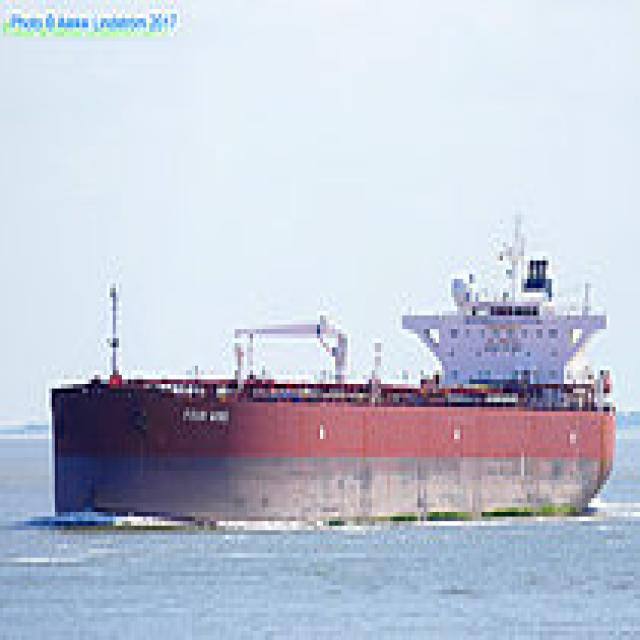Tanker: (45, 206, 616, 512)
